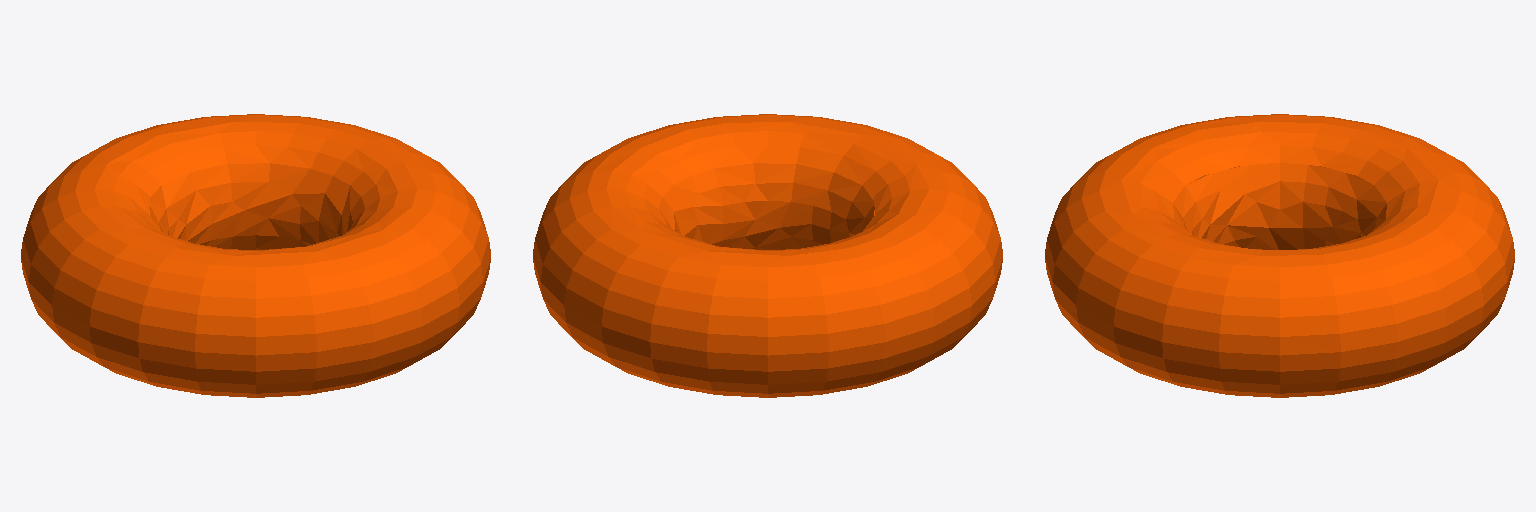
URDF robot description (Donut_615d0b4bbec771e99a6e43b878d5b335):
<?xml version="1.0" ?>
<robot name="Donut_615d0b4bbec771e99a6e43b878d5b335">
   <material name="obj_color">
      <color rgba="1.0 0.423529411765 0.0392156862745 1.0"/>
   </material>
   <link name="top">
      <inertial>
         <origin rpy="0.0002271818937250821 0.0002271827005886081 0.0004019169855384762" xyz="-3.698439984514416e-06 4.431428263032962e-07 -1.482652894974106e-05"/>
         <mass value="0.2919818308149201"/>
         <inertia ixx="0.0002271826983960192" ixy="4.200372097901279e-11" ixz="1.318574248936076e-14" iyy="0.000227181895917671" iyz="-1.311896532889901e-14" izz="0.0004019169855384762"/>
      </inertial>
      <visual>
         <origin rpy="0 0 0" xyz="0 0 0"/>
         <geometry>
            <mesh filename="top_watertight_tiny.stl" scale="1 1 1"/>
         </geometry>
         <material name="obj_color"/>
      </visual>
      <collision>
         <origin rpy="0 0 0" xyz="0 0 0"/>
         <geometry>
            <mesh filename="top_watertight_tiny.obj" scale="1 1 1"/>
         </geometry>
      </collision>
   </link>
   <link name="bottom">
      <inertial>
         <origin rpy="1.633333333331402e-08 1.633333333331402e-08 1.633333333331402e-08" xyz="0.08660200000000004 0.08660200000000004 0.08660200000000004"/>
         <mass value="0.0009800000000000026"/>
         <inertia ixx="1.633333333331402e-08" ixy="-0" ixz="-0" iyy="1.633333333331402e-08" iyz="-0" izz="1.633333333331402e-08"/>
      </inertial>
      <visual>
         <origin rpy="0 0 0" xyz="0 0 0"/>
         <geometry>
            <mesh filename="bottom_watertight_tiny.stl" scale="1 1 1"/>
         </geometry>
         <material name="obj_color"/>
      </visual>
   </link>
   <link name="world"/>
   <joint name="world_to_base" type="fixed">
      <origin xyz="0 0 0"/>
      <axis xyz="0 0 0"/>
      <parent link="world"/>
      <child link="bottom"/>
   </joint>
   <joint name="rotation" type="revolute">
      <origin xyz="0 0 0"/>
      <axis xyz="0 0 -1"/>
      <parent link="bottom"/>
      <child link="top"/>
      <dynamics damping="1.0" friction="1.0"/>
      <limit effort="0.1" velocity="0.1" lower="0" upper="0.001"/>
   </joint>
</robot>

--- Render facts (derived) ---
3 views of the same robot in one strip: view 1: azimuth 30°, elevation 25°; view 2: azimuth 150°, elevation 25°; view 3: azimuth 270°, elevation 25° (orthographic).
Model Donut_615d0b4bbec771e99a6e43b878d5b335 with 3 links and 2 joints (1 revolute, 1 fixed), rooted at world, posed all joints at 0.
Visible links, largest first — view 1: top; view 2: top; view 3: top.
Boxes of the visible links, x1,y1,x2,y2 form: top: [21, 114, 490, 397]; top: [533, 114, 1002, 397]; top: [1045, 114, 1514, 397].
Bounding box of the posed robot: 0.112 × 0.112 × 0.0352 m (x, y, z).
1 mesh visuals loaded from 2 distinct referenced files (1 binary STL); not drawn: 1 (reference not matched to a file when rendering).